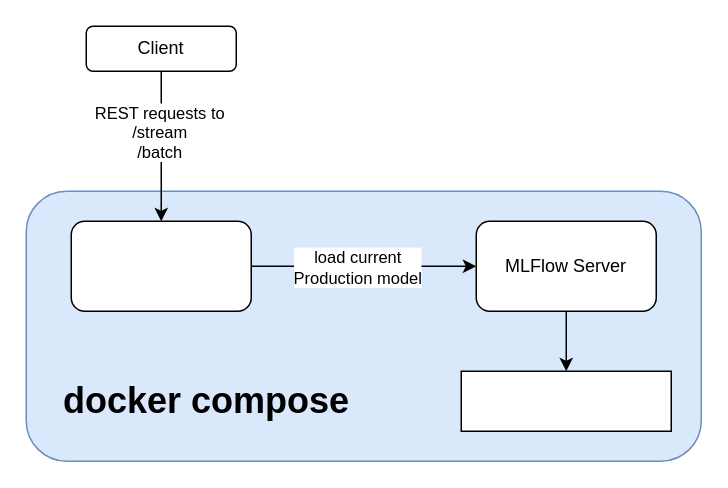
This 728x488 diagram has some shape labels left out. The box of each missing label's shape, as (x1, y1, x2, y2) in pixels:
Artifacts (local FS or S3): (460, 370, 671, 431)
Web Server (Flask): (70, 220, 251, 311)
